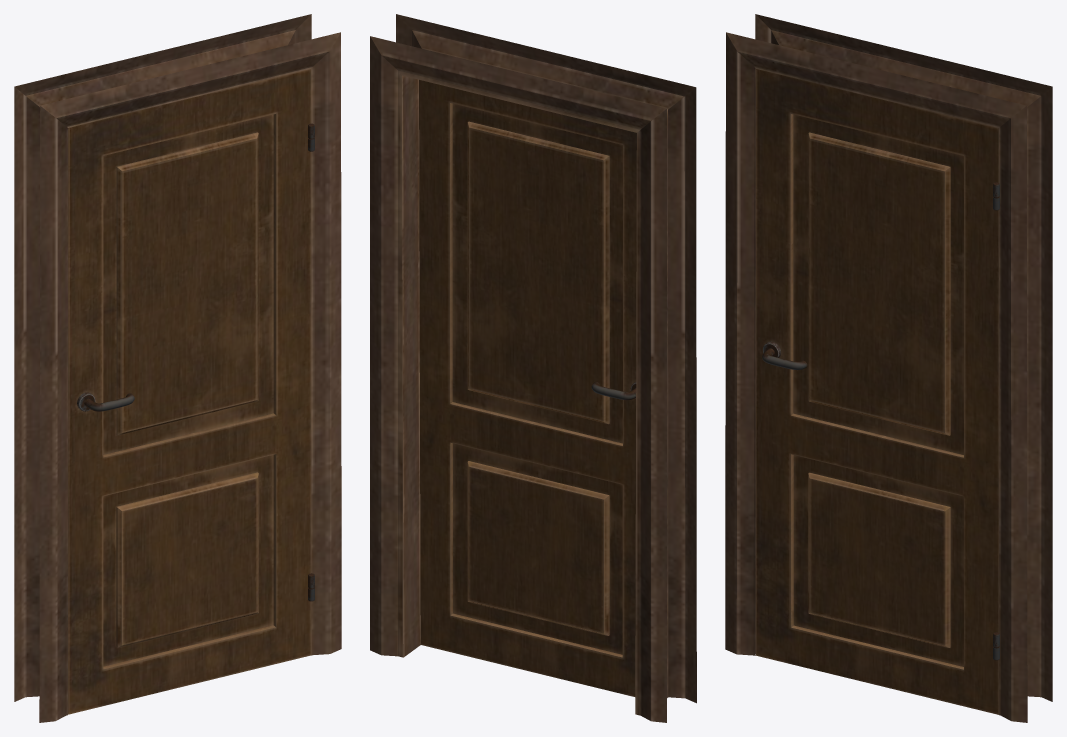
The model's file is door-wood.glb.
3 renders of one model, left to right at view 1: azimuth 30°, elevation 25°; view 2: azimuth 150°, elevation 25°; view 3: azimuth 330°, elevation 25°, orthographic.
Visible parts, largest first — view 1: leafMesh, frame; view 2: leafMesh, frame; view 3: leafMesh, frame.
Part boxes in pixels (x1,y1,x2,y2): leafMesh: [68, 69, 314, 714]; frame: [14, 14, 341, 722]; leafMesh: [419, 80, 636, 696]; frame: [370, 14, 696, 722]; leafMesh: [756, 69, 999, 714]; frame: [725, 14, 1052, 722].
Bounding box in the file's own units: 1.13 × 2.21 × 0.2695.
Materials: 2 (2 with a texture image).
